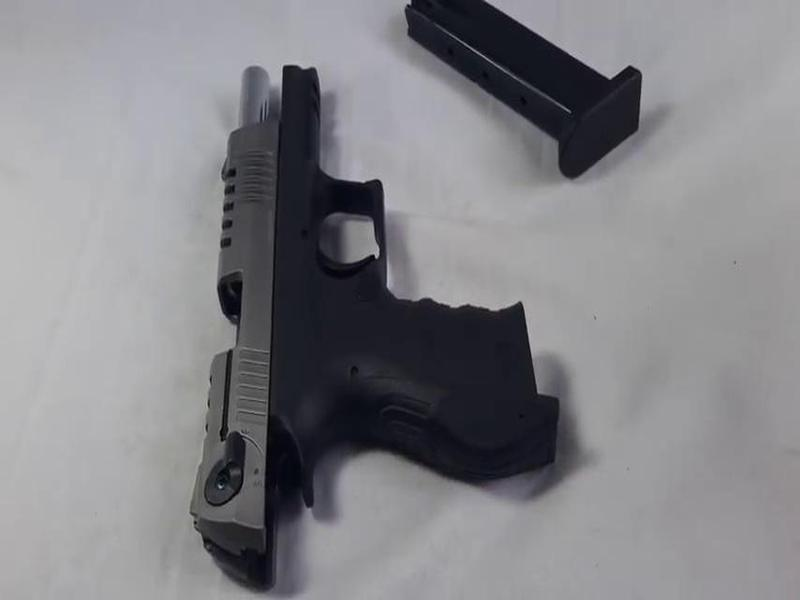Pistola: (165, 35, 620, 588)
